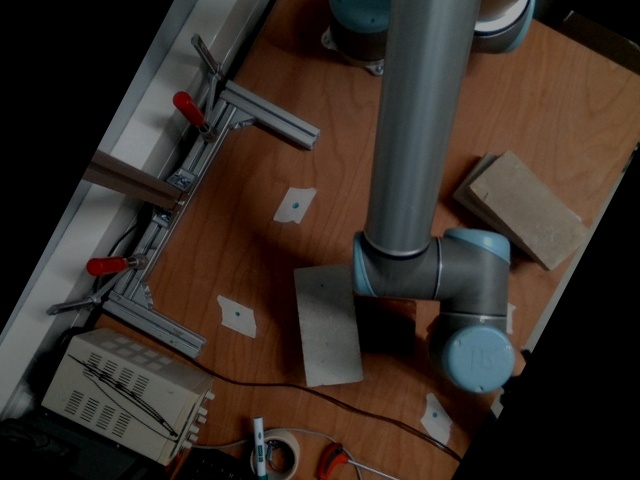brick: (473, 149, 592, 271)
